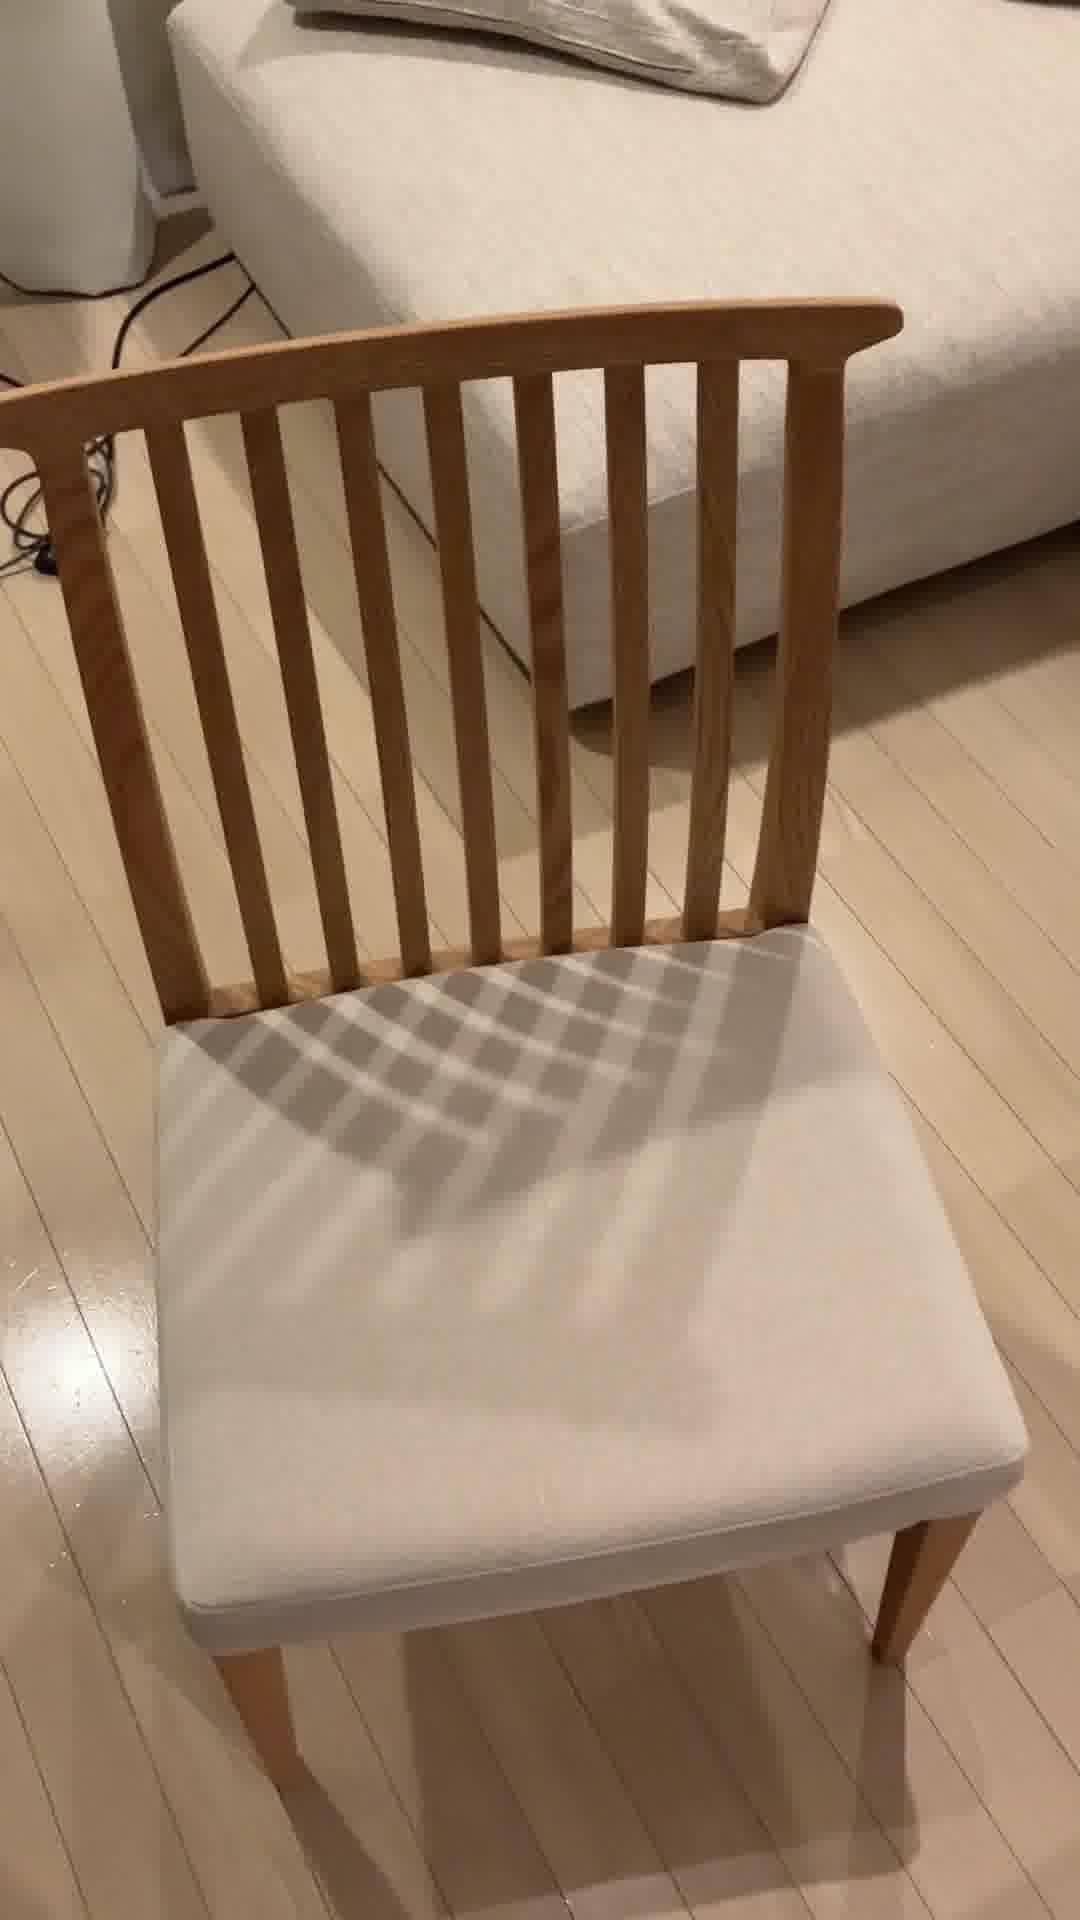takumikan-chair: (0, 287, 1038, 1771)
